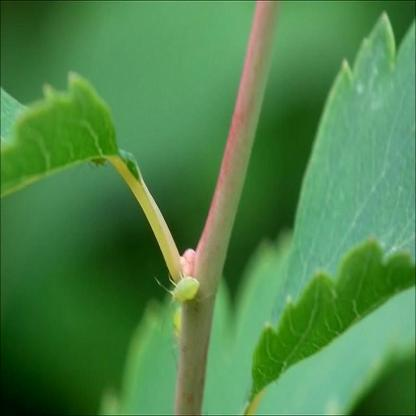aphid: (164, 262, 204, 312), (167, 309, 189, 346)
